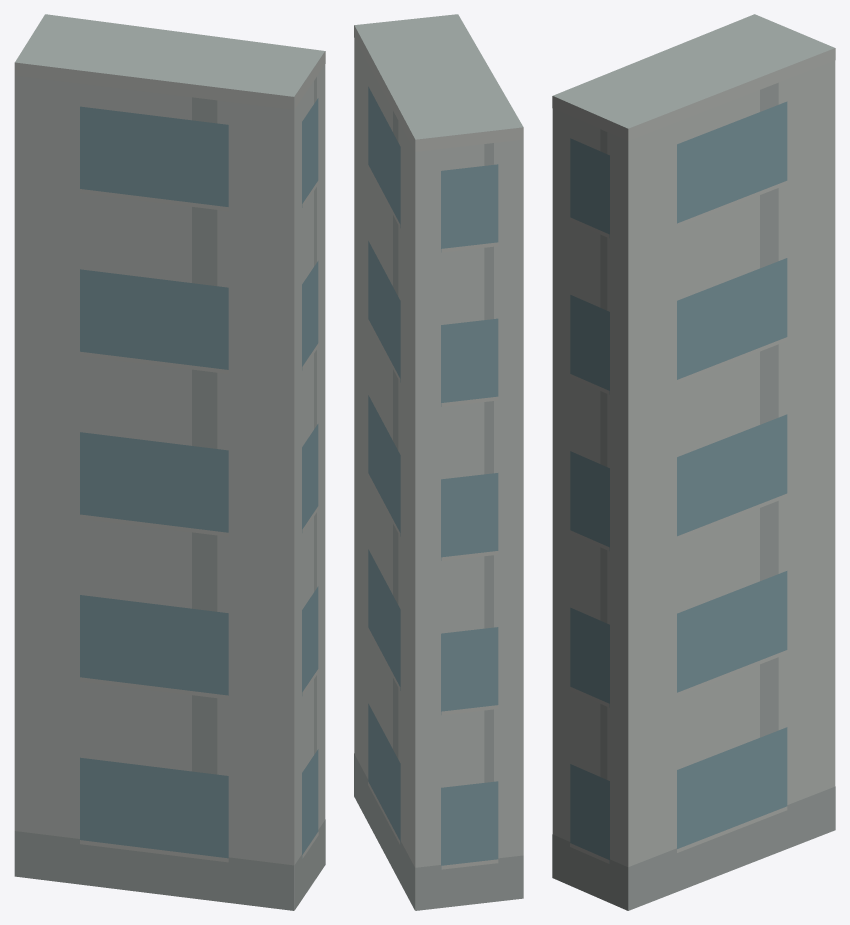
File: survey-upis-32783489.glb
The picture shows the model from 3 angles, left to right: view 1: azimuth 30°, elevation 25°; view 2: azimuth 150°, elevation 25°; view 3: azimuth 270°, elevation 25°; orthographic projection. The views are drawn at different scales.
Visible parts, largest first — view 1: survey-upis-32783489.tmp; view 2: survey-upis-32783489.tmp; view 3: survey-upis-32783489.tmp.
Boxes of the visible parts, x1=… form: survey-upis-32783489.tmp: x1=14, y1=14, x2=325, y2=910; survey-upis-32783489.tmp: x1=354, y1=14, x2=523, y2=910; survey-upis-32783489.tmp: x1=552, y1=14, x2=835, y2=910.
Bounding box in the file's own units: 4.8 × 15.25 × 5.
